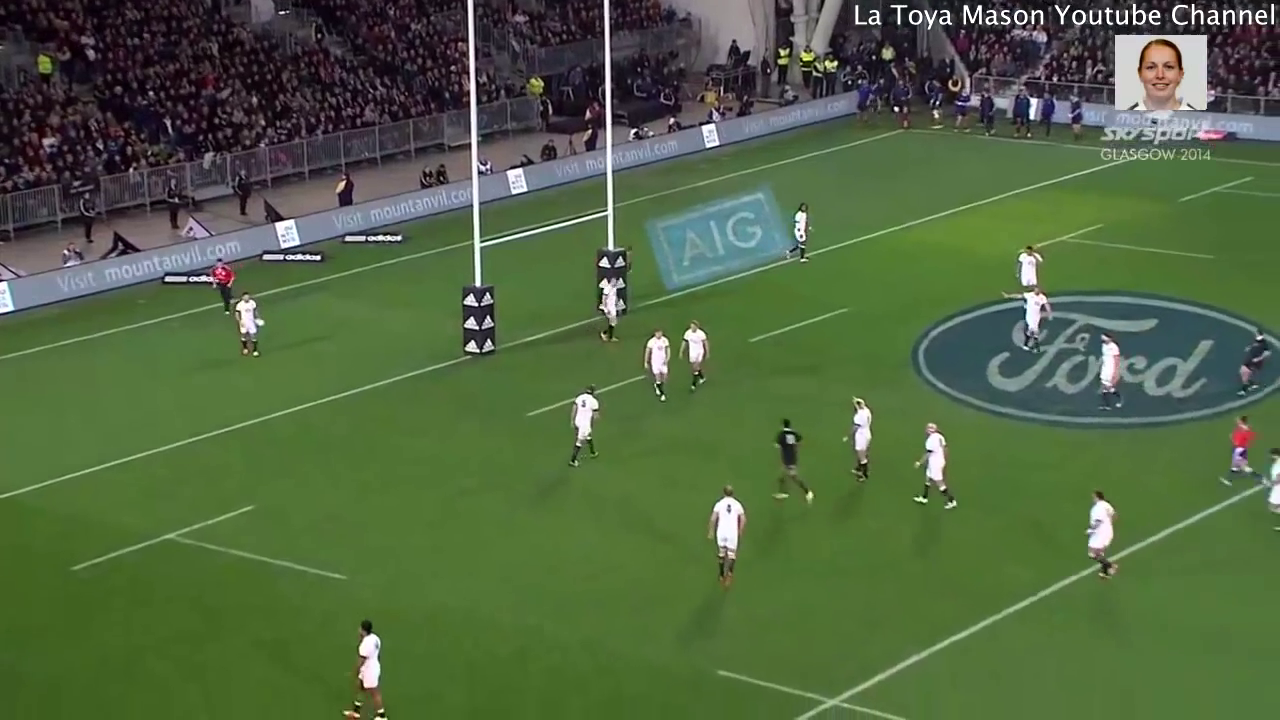ball: (250, 314, 267, 328)
player: (336, 609, 395, 720), (763, 409, 825, 511), (702, 479, 751, 590), (907, 416, 963, 509), (1074, 482, 1124, 584), (556, 378, 608, 475), (996, 284, 1059, 351), (1086, 325, 1128, 420), (835, 392, 876, 484), (1211, 410, 1260, 484), (676, 318, 720, 397), (1229, 324, 1273, 401), (224, 288, 269, 352), (587, 272, 628, 341), (641, 325, 674, 408), (778, 195, 813, 267), (1260, 444, 1280, 542), (1006, 240, 1045, 284), (211, 258, 236, 314)
post: (440, 48, 637, 370)
